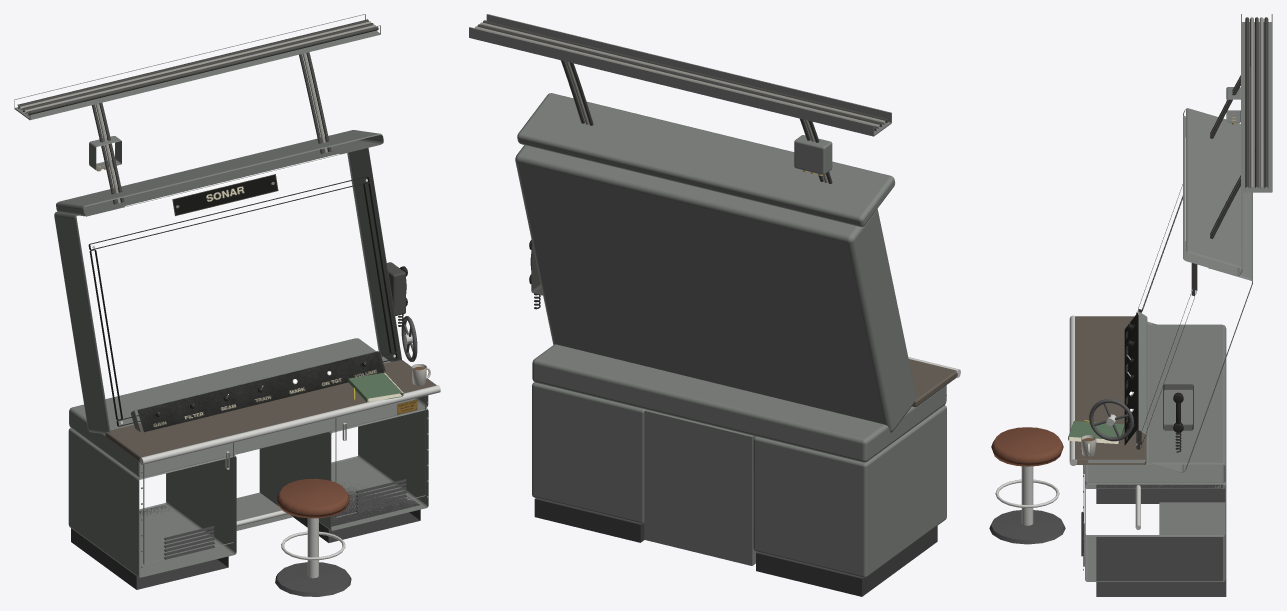
File: sonar.glb
The picture shows the model from 3 angles, left to right: view 1: azimuth 30°, elevation 25°; view 2: azimuth 150°, elevation 25°; view 3: azimuth 270°, elevation 25°; orthographic projection. The views are drawn at different scales.
Parts seen in each view (by area): view 1: body; view 2: body; view 3: body.
Part boxes in pixels (<box>): body: <box>14,14,440,596</box>; body: <box>469,14,960,596</box>; body: <box>989,14,1272,596</box>.
Size of the model in its own units: 2.1 by 2.48 by 1.48.
10 materials, 3 textured.
